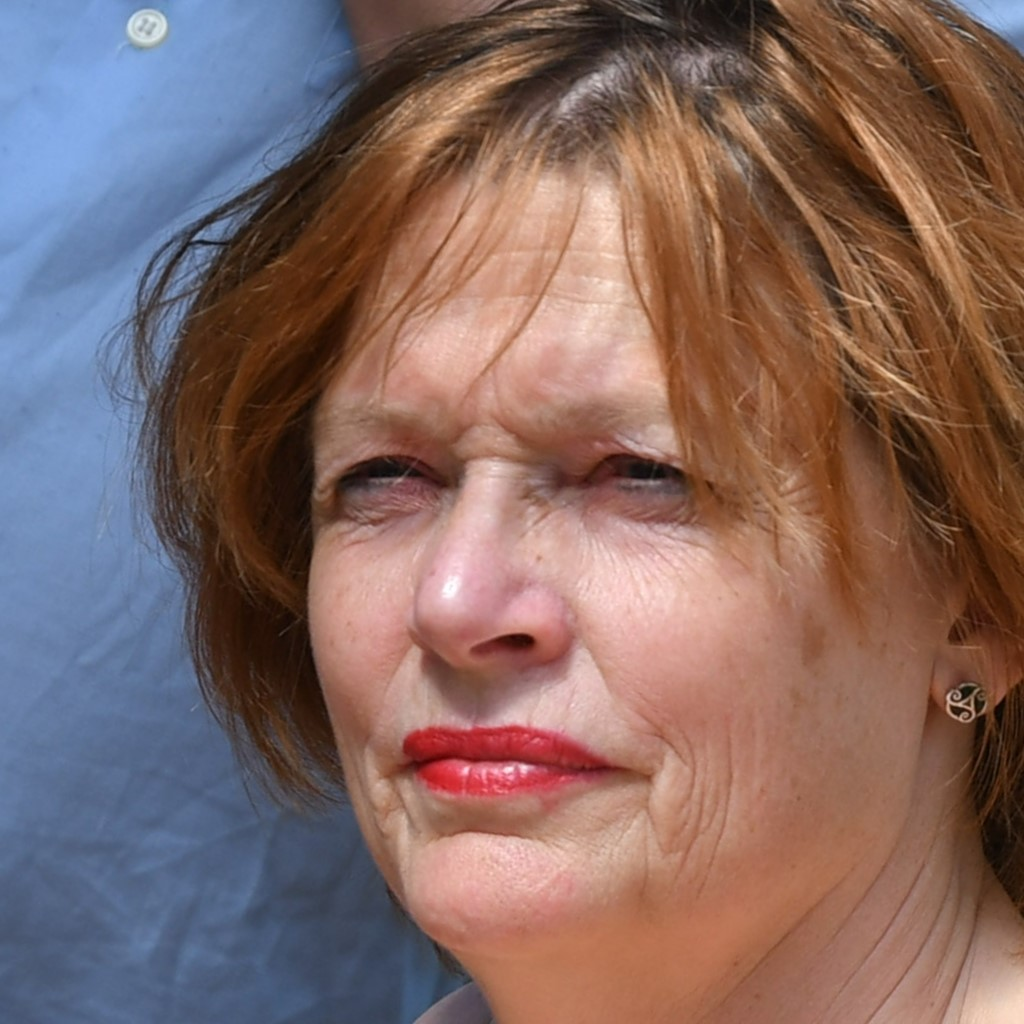sin_mascara: (317, 73, 999, 967)
